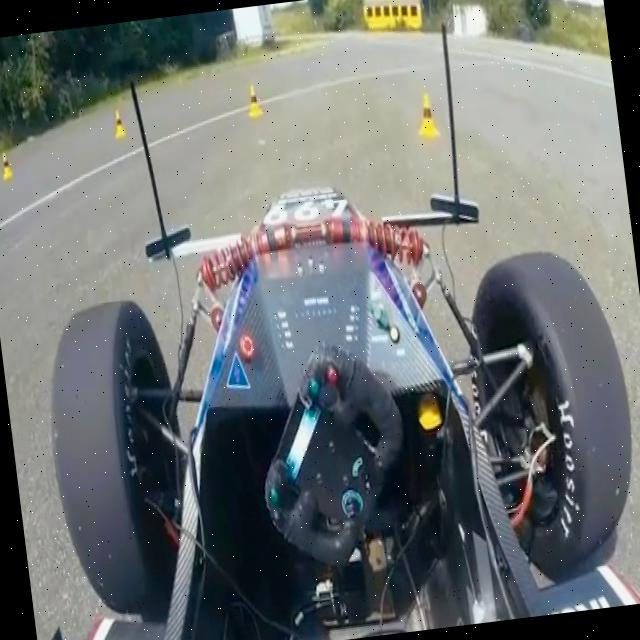yellow_cone: (416, 87, 446, 154), (239, 74, 266, 126), (106, 103, 132, 142), (0, 149, 16, 184)
